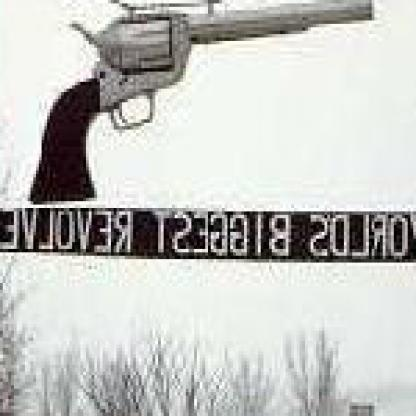gun: (14, 0, 388, 215)
